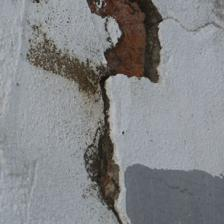Crack: (8, 31, 120, 143), (26, 138, 112, 158), (22, 0, 65, 39)
